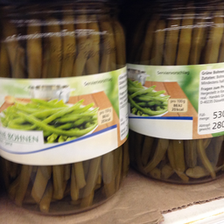beans: (1, 3, 125, 215), (129, 3, 222, 190)
